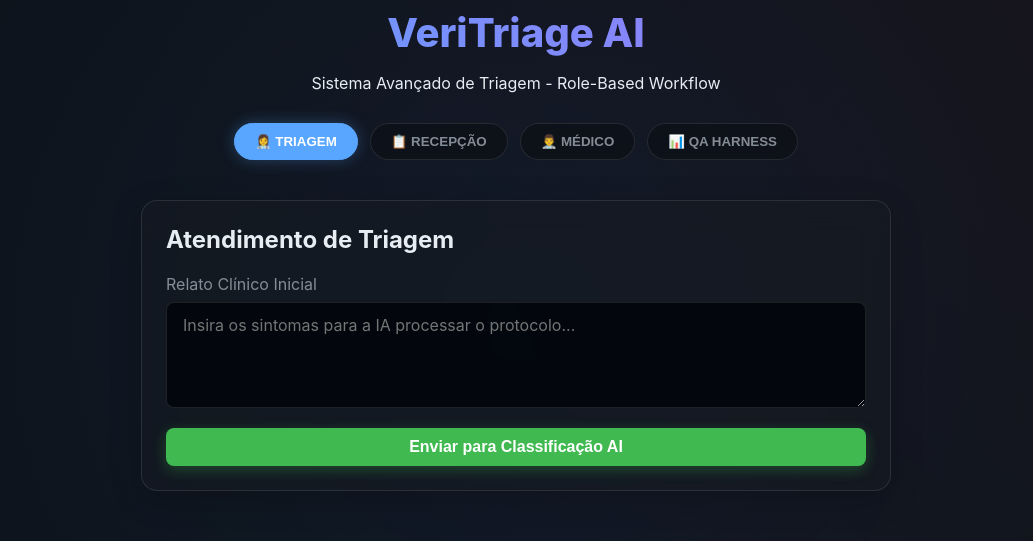
Test case: VeriTriage RBAC App › proves Privacy by Design (LGPD): CPF input should exist ONLY in Recepção
// Switch to Recepção
Click the button "📋 RECEPÇÃO" at (439, 142), box [370,123,508,160]
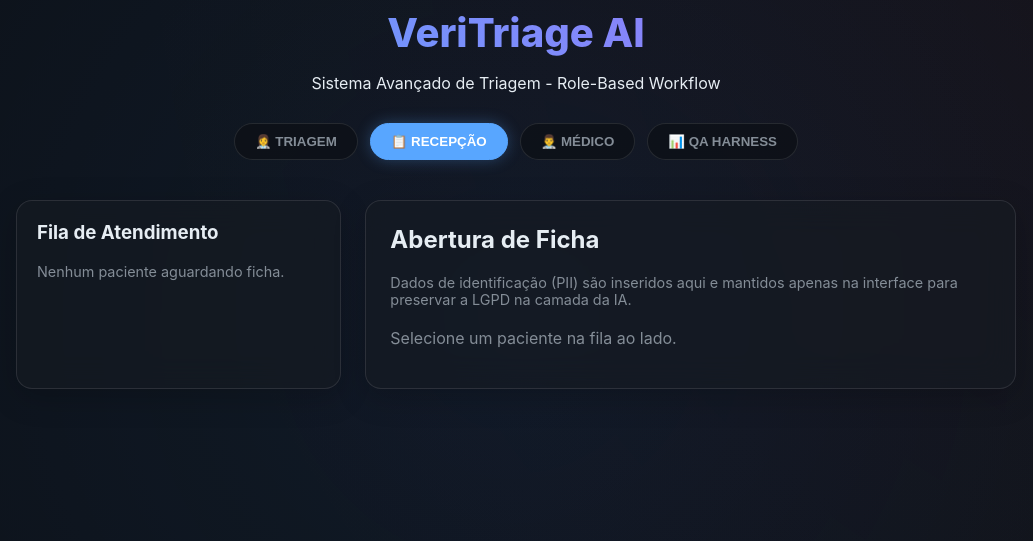
Expected: the text "Nenhum paciente aguardando ficha." is shown, [37,263,320,280]
